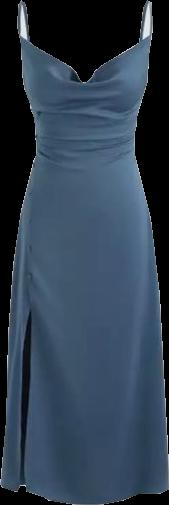Bodice: (17, 0, 152, 154)
Hemline: (0, 480, 168, 504)
Neckline: (18, 35, 152, 82)
Skirt: (3, 153, 168, 503)
